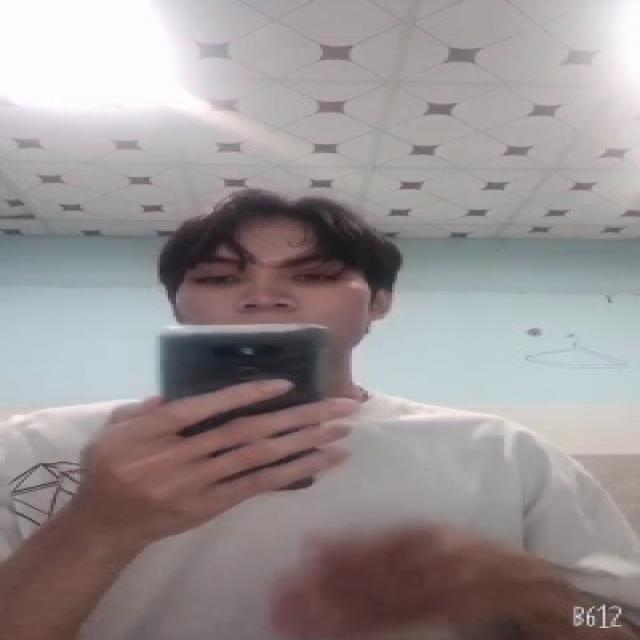Phone: (158, 327, 326, 493)
